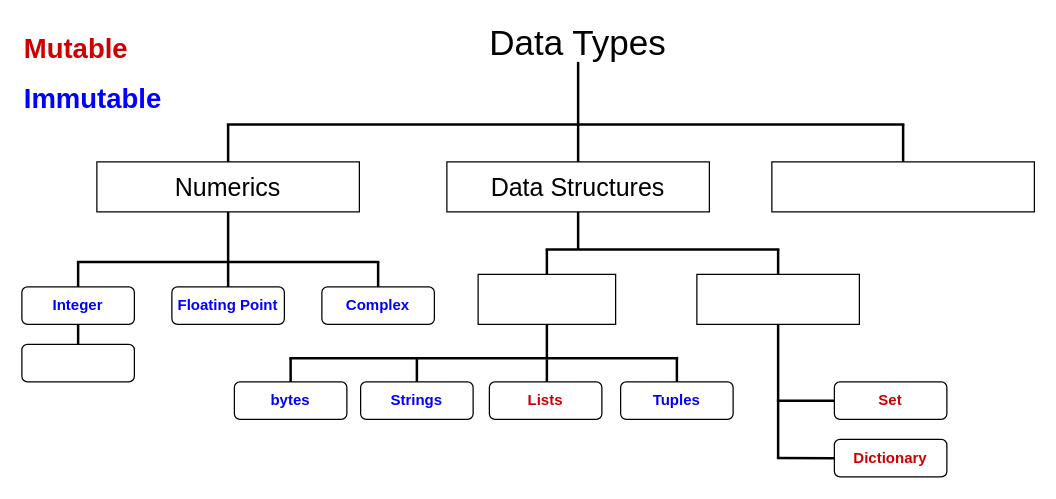
This 1056x499 diagram has some shape labels left out. The centre of each missing label's shape, as x and y in pixels:
"Boolean" belongs at (x=77, y=362).
"None" belongs at (x=902, y=186).
"Ordered" belongs at (x=546, y=298).
"Unordered" belongs at (x=777, y=298).
